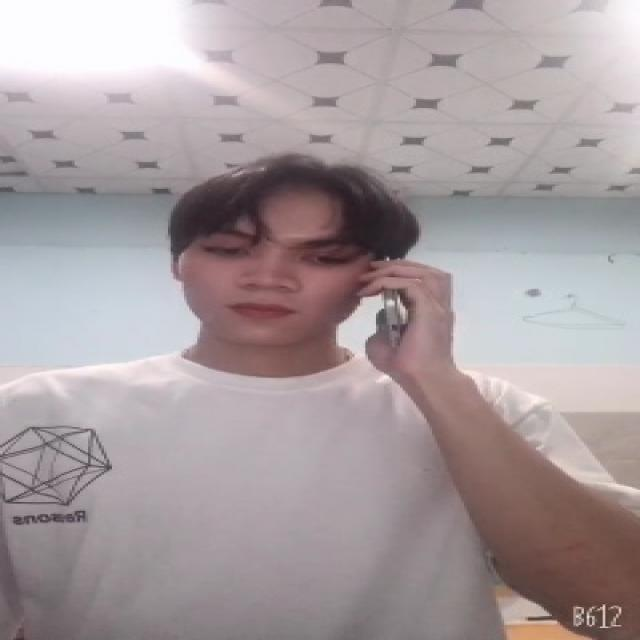Phone: (376, 253, 410, 351)
